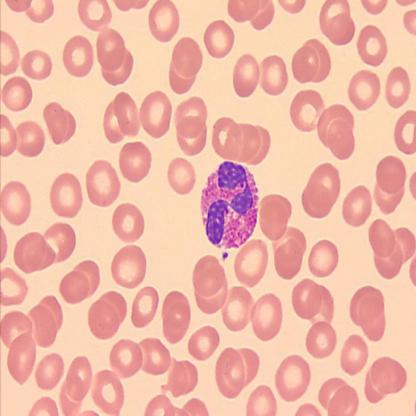Eosinophil: (199, 159, 260, 258)
